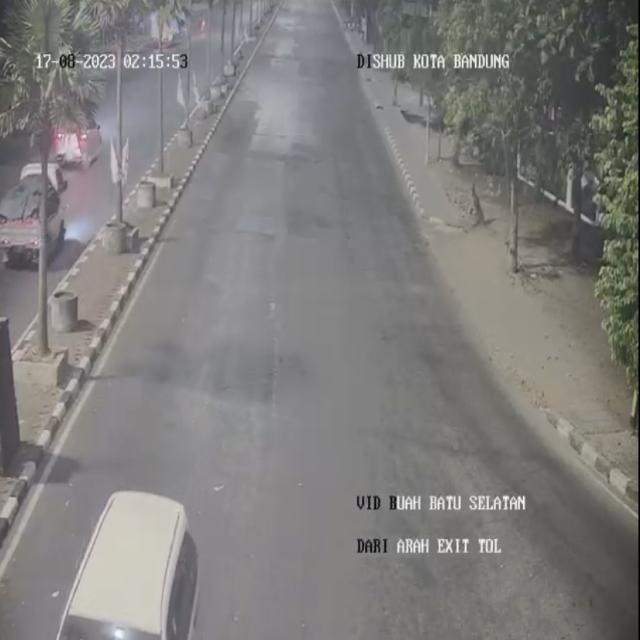cars: (57, 474, 216, 640)
